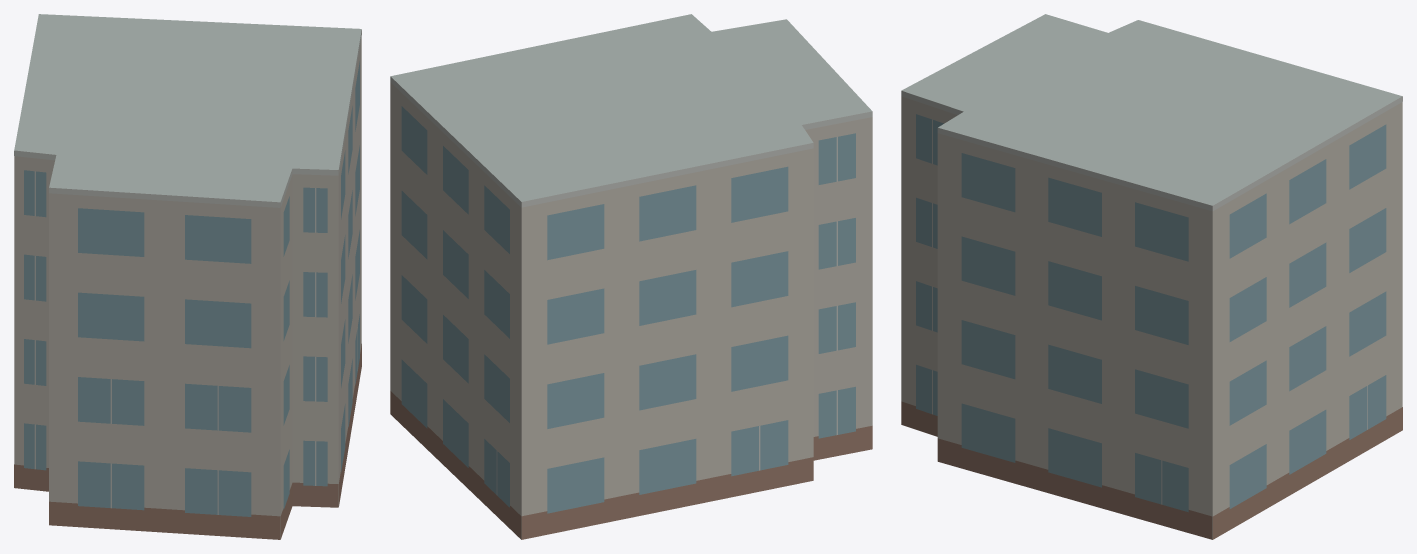
File: survey-upis-32838665.glb
3 views of the same model, side by side, from view 1: azimuth 30°, elevation 25°; view 2: azimuth 150°, elevation 25°; view 3: azimuth 270°, elevation 25° (orthographic).
Visible parts, largest first — view 1: survey-upis-32838665.tmp; view 2: survey-upis-32838665.tmp; view 3: survey-upis-32838665.tmp.
Boxes of the visible parts, x1,y1,x2,y2 form: survey-upis-32838665.tmp: (14, 14, 361, 539); survey-upis-32838665.tmp: (390, 14, 872, 539); survey-upis-32838665.tmp: (901, 14, 1402, 539).
Bounding box in the file's own units: 17.99 × 14.6 × 19.87.
